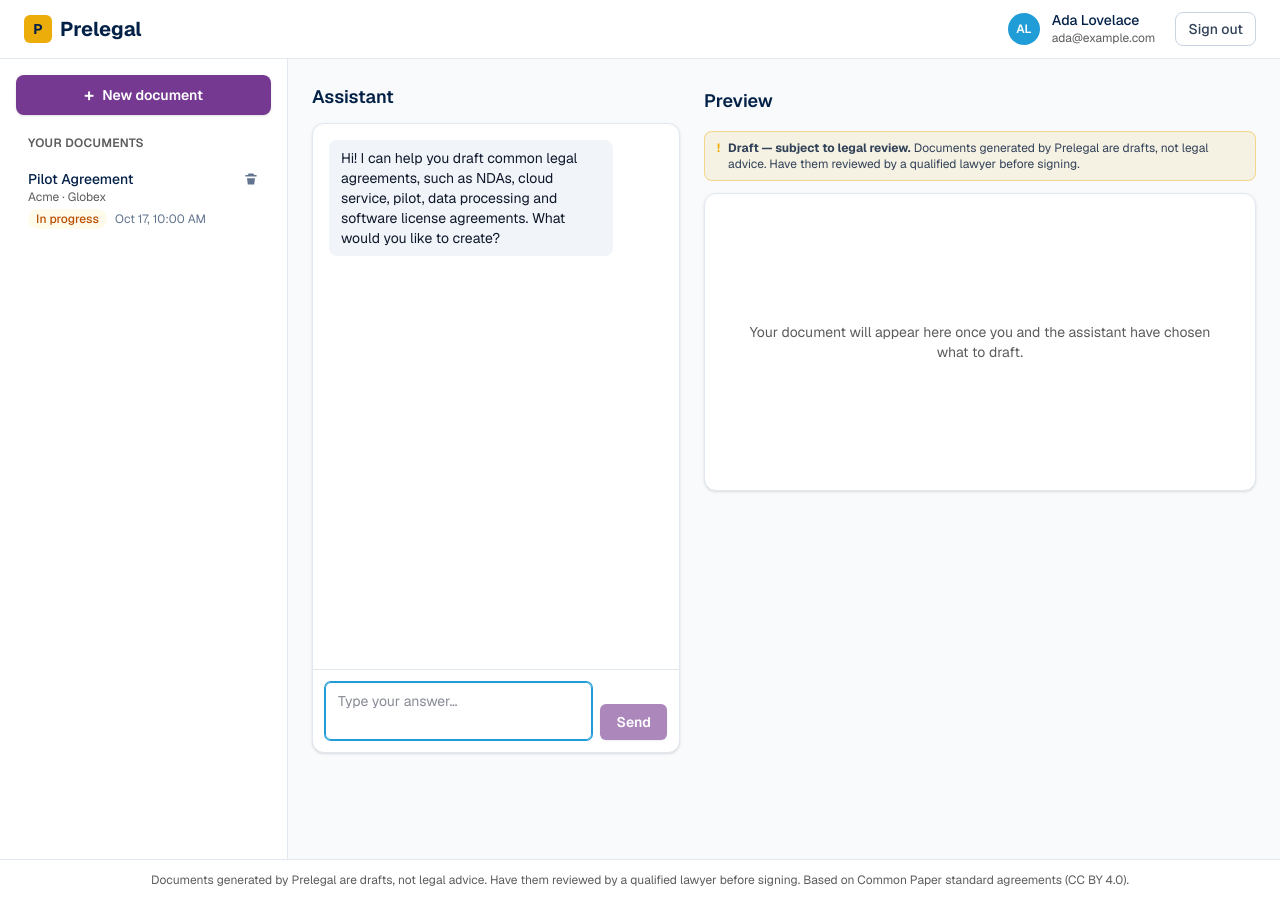
AppShell › deletes a document after confirming in the dialog
Click the button named "Delete Pilot Agreement" at (251, 179), box [239, 167, 263, 191]
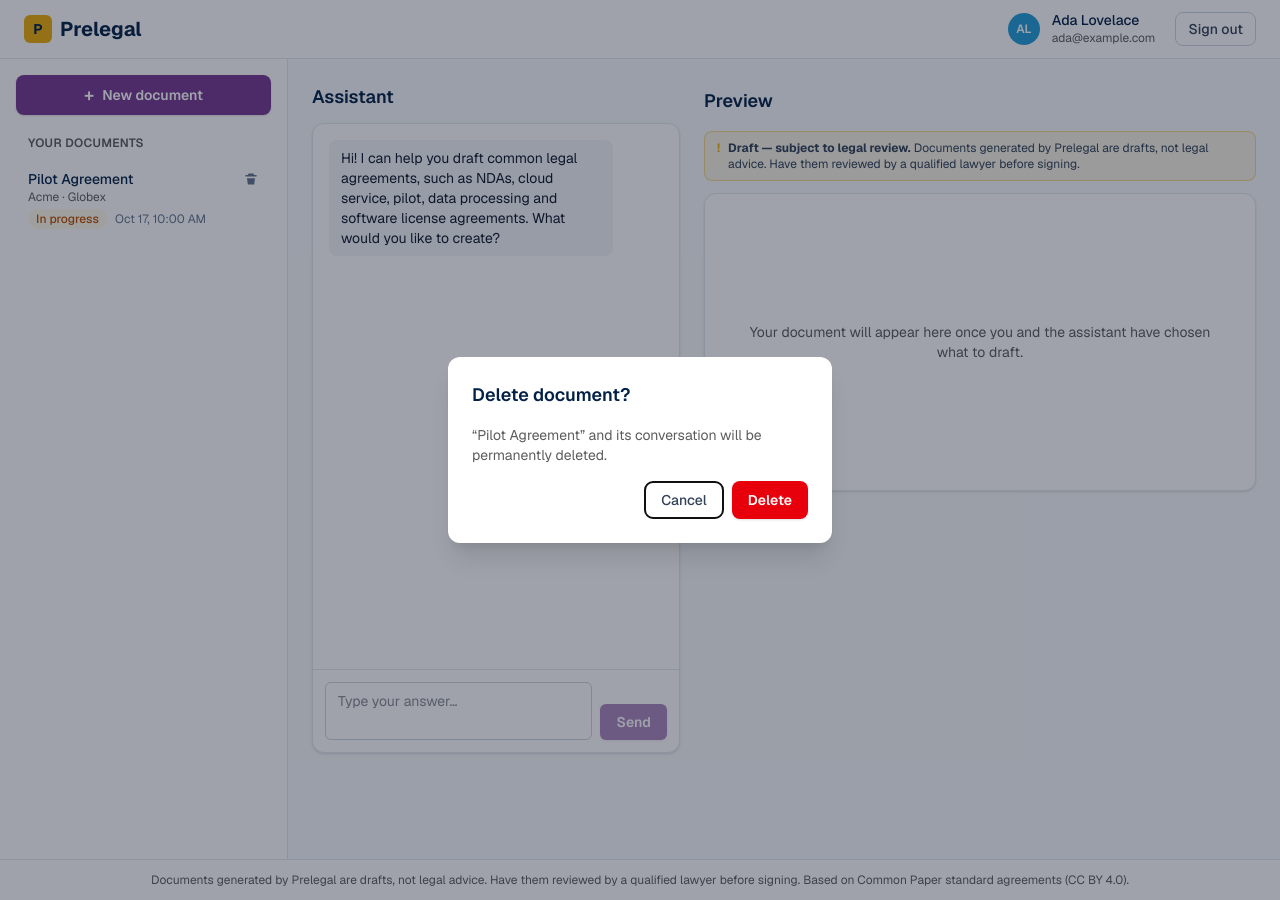
Click the button "Delete" at (770, 500), box [732, 481, 808, 519]
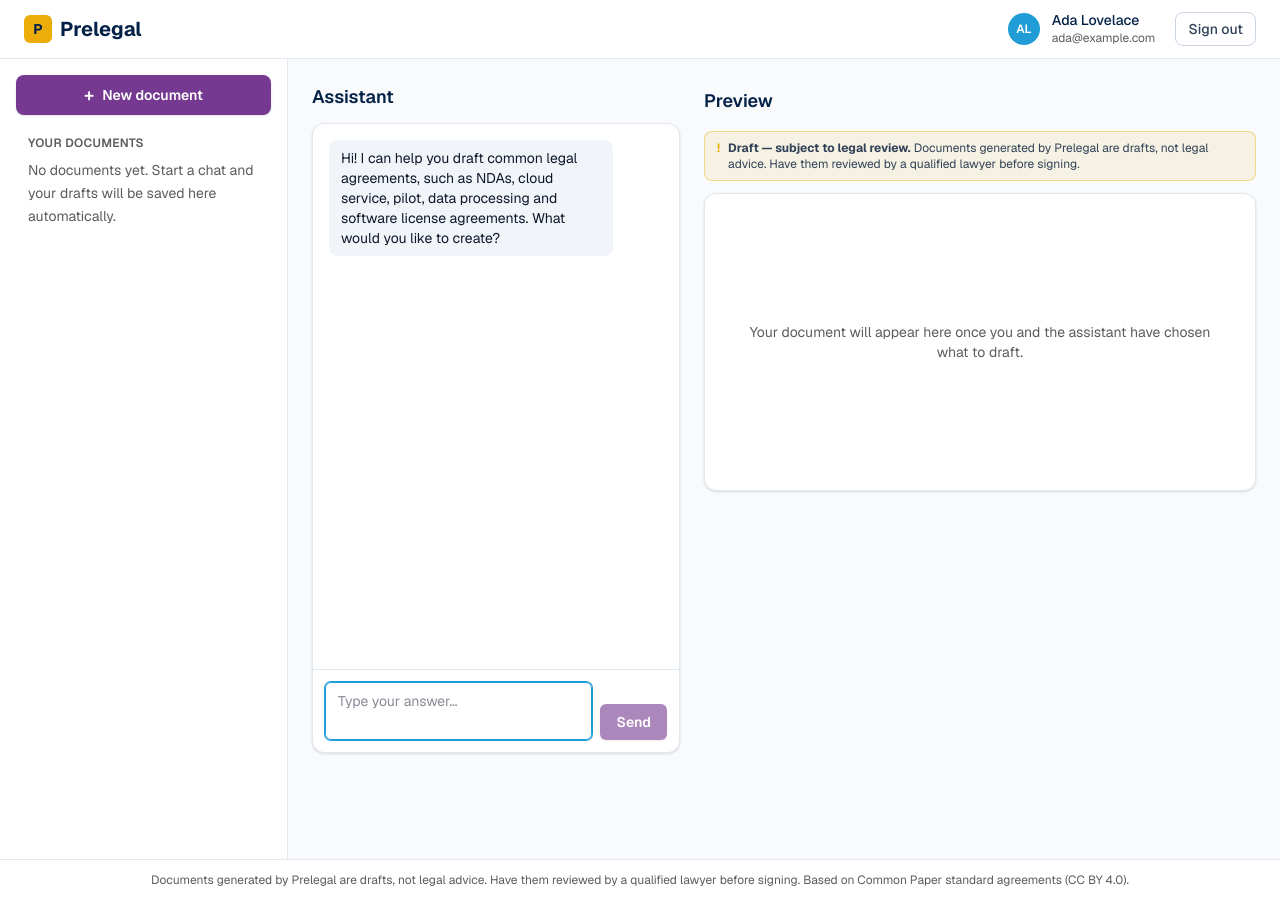
Result: the text "No documents yet" is shown at [28, 161, 254, 224]
Result: the dialog is gone
